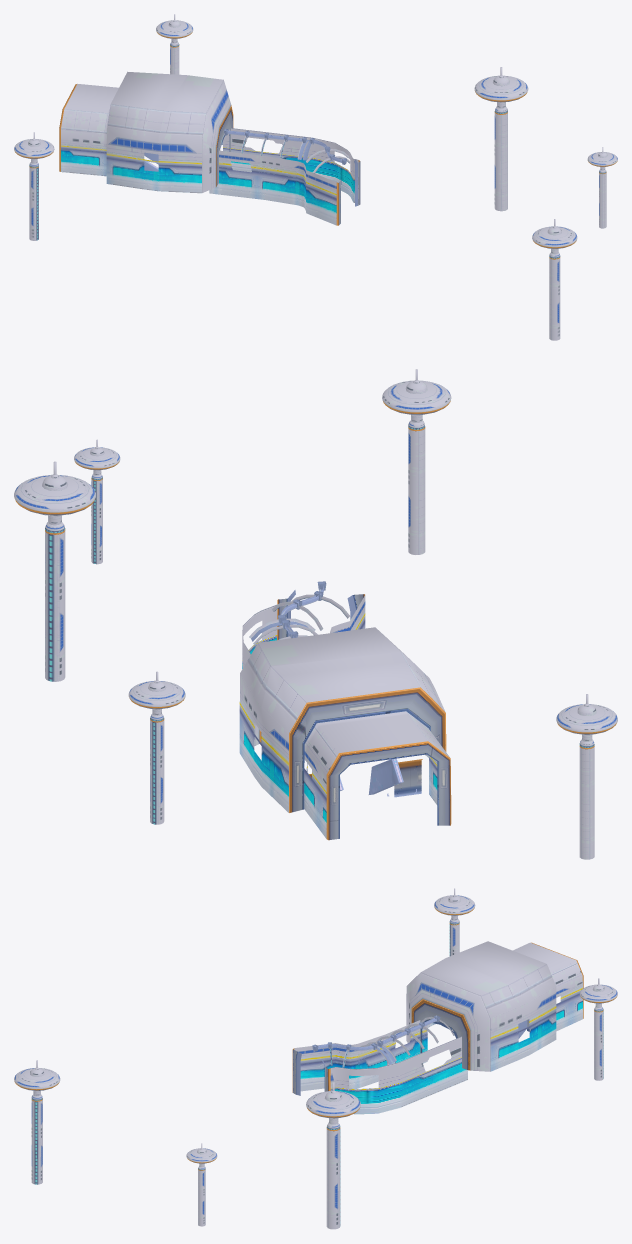
Rendered from buildingB.glb.
3 views of the same model, one above another, from view 1: azimuth 30°, elevation 25°; view 2: azimuth 150°, elevation 25°; view 3: azimuth 270°, elevation 25° (orthographic). The views are drawn at different scales.
Parts seen in each view (by area): view 1: polySurface9394_xszy_01_0; view 2: polySurface9394_xszy_01_0; view 3: polySurface9394_xszy_01_0.
Part boxes in pixels (x1,y1,x2,y2): polySurface9394_xszy_01_0: (14,14,617,340); polySurface9394_xszy_01_0: (14,369,617,859); polySurface9394_xszy_01_0: (14,888,617,1229).
Bounding box in the file's own units: 253 × 75.47 × 273.
1 material, 1 textured.
